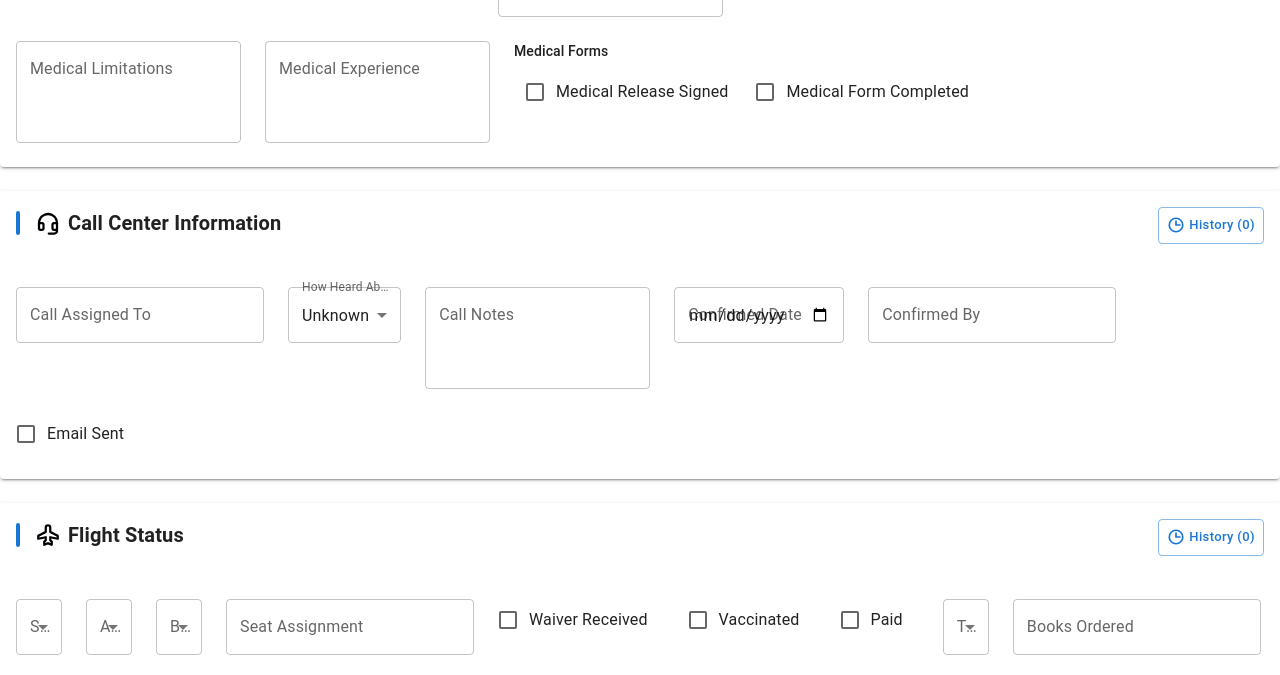
it: EssentialInfoSection › allows selecting how heard about value
(page scrolled)
Press the mouse on the dropdown labelled "Unknown" at (336, 315), box x1=302 y1=306 x2=369 y2=324
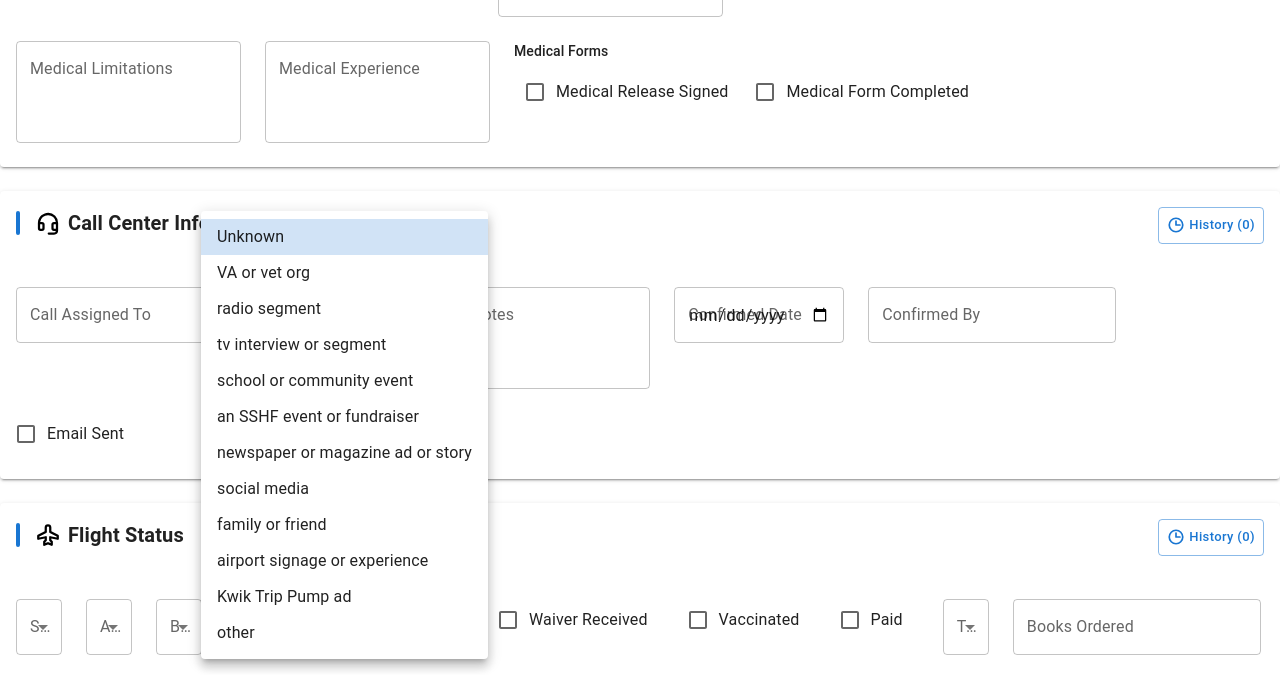
Click the option "social media". click: (263, 488)
box: x1=217 y1=479 x2=309 y2=498
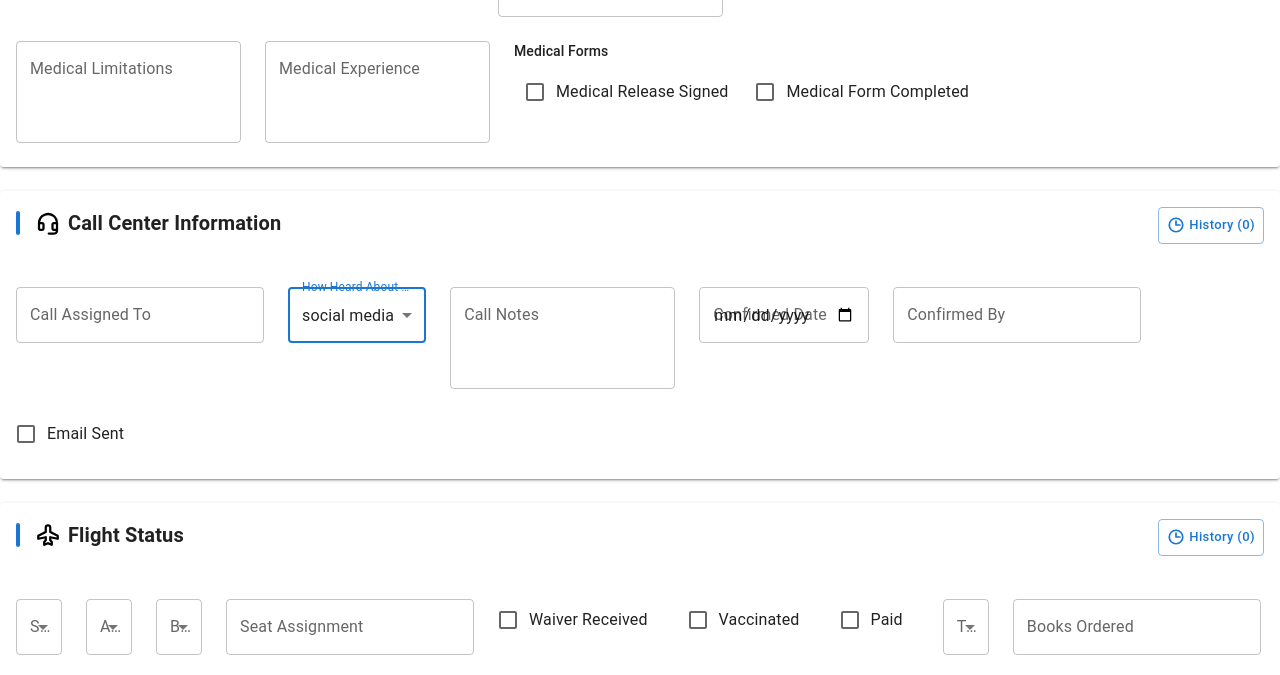
Expected: the dropdown labelled "social media" is shown, x1=302 y1=306 x2=394 y2=324
